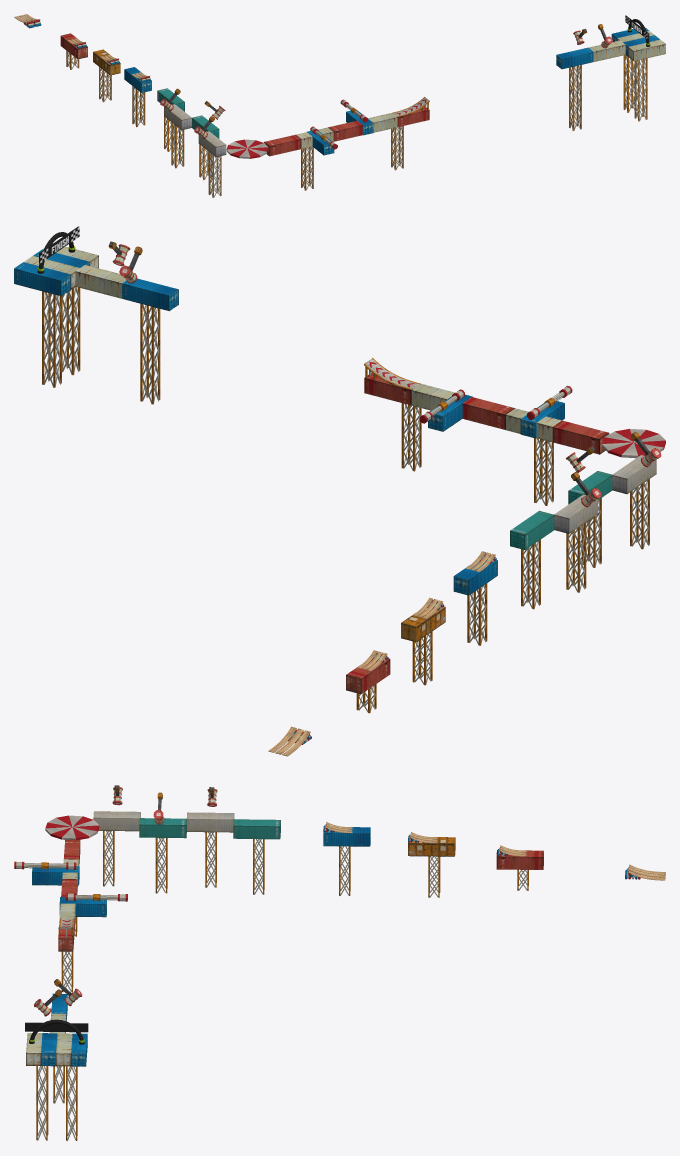
The model's file is 17_Parkour.fbx.
3 views of the same model, one above another, from view 1: azimuth 30°, elevation 25°; view 2: azimuth 150°, elevation 25°; view 3: azimuth 270°, elevation 25° (orthographic). The views are drawn at different scales.
Parts seen in each view (by area): view 1: TurningPlatformFast, stcontainerblue__3_, stcontainerwhite__5_, stcontainerred__5_, stcontainerwhite__3_, stcontainerred__6_, stcontainerwhitetwo__1_, stcontainerwhitetwo, orangescaffold__3_, orangescaffold, stcontainerwhite__2_, stcontainerred__4_ (+18 smaller); view 2: TurningPlatformFast, stcontainerblue__5_, stcontainerblue__3_, stcontainerred__5_, stcontainerwhite__3_, stcontainergreen, stcontainerred__6_, stcontainerwhitetwo__1_, stcontainerwhitetwo, orangescaffold, stcontainerblue, stcontainerorange (+7 smaller); view 3: TurningPlatformFast, stcontainergreen, stcontainerwhitetwo, stcontainergreen__1_, stcontainerwhitetwo__1_, stcontainerblue, stcontainerorange, stcontainerred__4_, finishObject, stcontainerblue__1_, stcontainerblue__2_.
Part boxes in pixels (<box>): TurningPlatformFast: <box>226,139,268,158</box>; stcontainerblue__3_: <box>556,47,593,69</box>; stcontainerwhite__5_: <box>628,39,665,61</box>; stcontainerred__5_: <box>264,134,301,156</box>; stcontainerwhite__3_: <box>588,40,625,61</box>; stcontainerred__6_: <box>328,121,362,141</box>; stcontainerwhitetwo__1_: <box>198,131,226,156</box>; stcontainerwhitetwo: <box>164,104,191,129</box>; orangescaffold__3_: <box>634,84,647,121</box>; orangescaffold: <box>569,92,581,130</box>; stcontainerwhite__2_: <box>368,113,397,132</box>; stcontainerred__4_: <box>60,33,87,59</box>; TurningPlatformFast: <box>602,429,665,458</box>; stcontainerblue__5_: <box>14,262,70,296</box>; stcontainerblue__3_: <box>122,278,178,311</box>; stcontainerred__5_: <box>552,420,609,454</box>; stcontainerwhite__3_: <box>75,265,126,298</box>; stcontainergreen: <box>510,510,554,549</box>; stcontainerred__6_: <box>462,397,514,429</box>; stcontainerwhitetwo__1_: <box>612,455,656,494</box>; stcontainerwhitetwo: <box>554,494,598,533</box>; orangescaffold: <box>140,344,160,404</box>; stcontainerblue: <box>453,560,497,595</box>; stcontainerorange: <box>401,606,445,642</box>; TurningPlatformFast: <box>45,815,99,839</box>; stcontainergreen: <box>233,819,280,839</box>; stcontainerwhitetwo: <box>186,812,234,832</box>; stcontainergreen__1_: <box>139,818,186,838</box>; stcontainerwhitetwo__1_: <box>93,811,140,831</box>; stcontainerblue: <box>323,827,370,846</box>; stcontainerorange: <box>408,837,455,856</box>; stcontainerred__4_: <box>496,850,543,869</box>; finishObject: <box>25,1019,88,1044</box>; stcontainerblue__1_: <box>32,866,79,885</box>; stcontainerblue__2_: <box>59,897,106,917</box>.
Size of the model in its own units: 22973 by 4968 by 23070.
